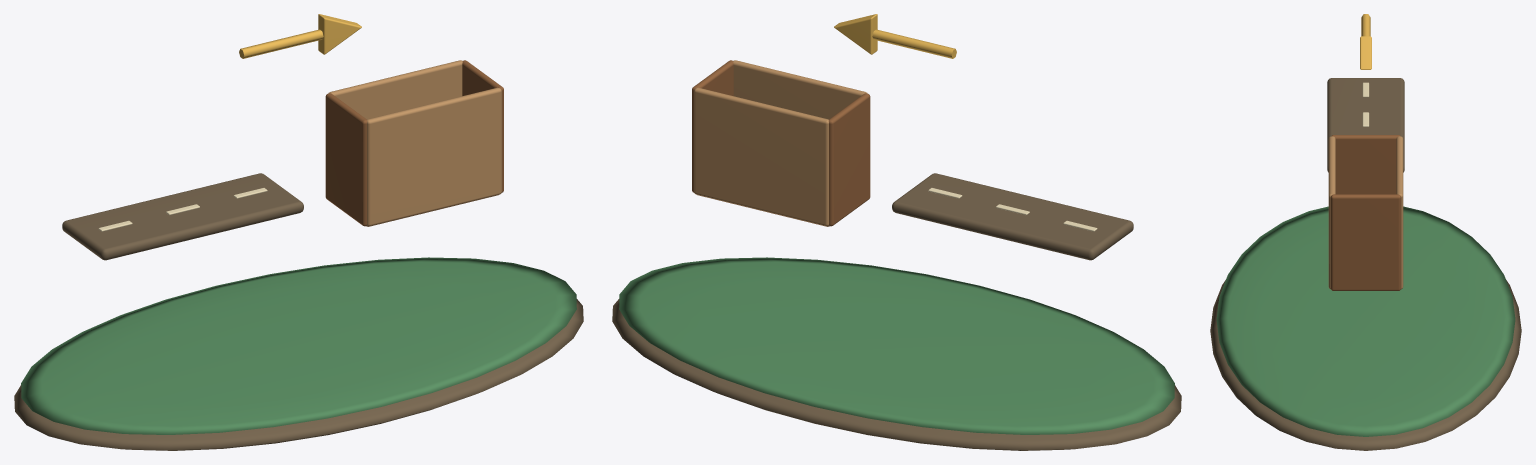
The model's file is complete-first-send-closed-gift.glb.
The picture shows the model from 3 angles, left to right: view 1: azimuth 30°, elevation 25°; view 2: azimuth 150°, elevation 25°; view 3: azimuth 270°, elevation 25°; orthographic projection. The views are drawn at different scales.
Parts seen in each view (by area): view 1: complete-first-send-closed-gift_surface_01, complete-first-send-closed-gift_surface_00, complete-first-send-closed-gift_surface_03, complete-first-send-closed-gift_surface_04, complete-first-send-closed-gift_surface_05; view 2: complete-first-send-closed-gift_surface_01, complete-first-send-closed-gift_surface_00, complete-first-send-closed-gift_surface_03, complete-first-send-closed-gift_surface_04, complete-first-send-closed-gift_surface_05; view 3: complete-first-send-closed-gift_surface_01, complete-first-send-closed-gift_surface_04, complete-first-send-closed-gift_surface_00, complete-first-send-closed-gift_surface_03, complete-first-send-closed-gift_surface_05.
Boxes of the visible parts, <box> form: complete-first-send-closed-gift_surface_01: <box>21,257,576,434</box>; complete-first-send-closed-gift_surface_00: <box>14,173,583,450</box>; complete-first-send-closed-gift_surface_03: <box>328,60,501,226</box>; complete-first-send-closed-gift_surface_04: <box>325,60,503,226</box>; complete-first-send-closed-gift_surface_05: <box>239,14,361,58</box>; complete-first-send-closed-gift_surface_01: <box>619,257,1174,434</box>; complete-first-send-closed-gift_surface_00: <box>612,173,1181,450</box>; complete-first-send-closed-gift_surface_03: <box>694,60,867,226</box>; complete-first-send-closed-gift_surface_04: <box>692,60,870,226</box>; complete-first-send-closed-gift_surface_05: <box>834,14,956,58</box>; complete-first-send-closed-gift_surface_01: <box>1216,206,1515,436</box>; complete-first-send-closed-gift_surface_04: <box>1330,135,1401,290</box>; complete-first-send-closed-gift_surface_00: <box>1210,78,1521,450</box>; complete-first-send-closed-gift_surface_03: <box>1328,136,1403,289</box>; complete-first-send-closed-gift_surface_05: <box>1360,14,1371,69</box>.
Size of the model in its own units: 4.56 by 2.83 by 2.5.
